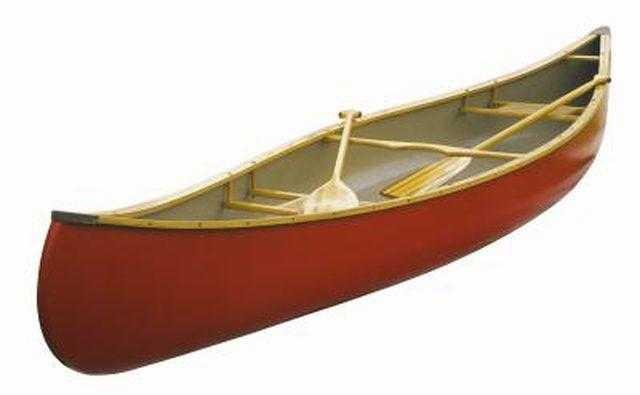kayak: (32, 31, 614, 376)
